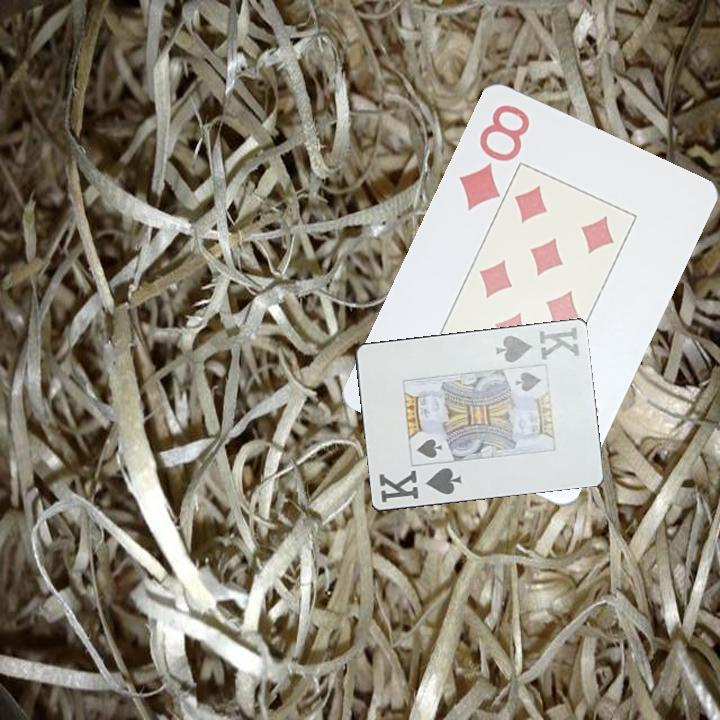8d: (455, 101, 534, 215)
Ks: (375, 464, 465, 506), (492, 324, 582, 366)
